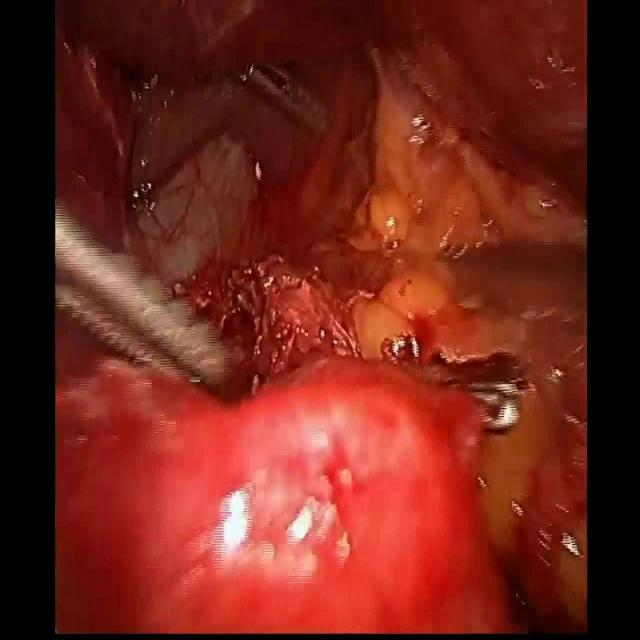surgical-area: (54, 2, 587, 633)
surgical-tool: (56, 196, 232, 392), (234, 62, 329, 133)
